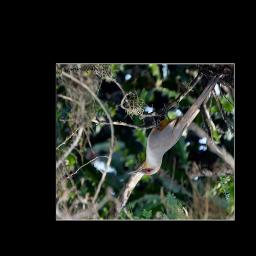Cuckoo: (126, 72, 223, 177)
